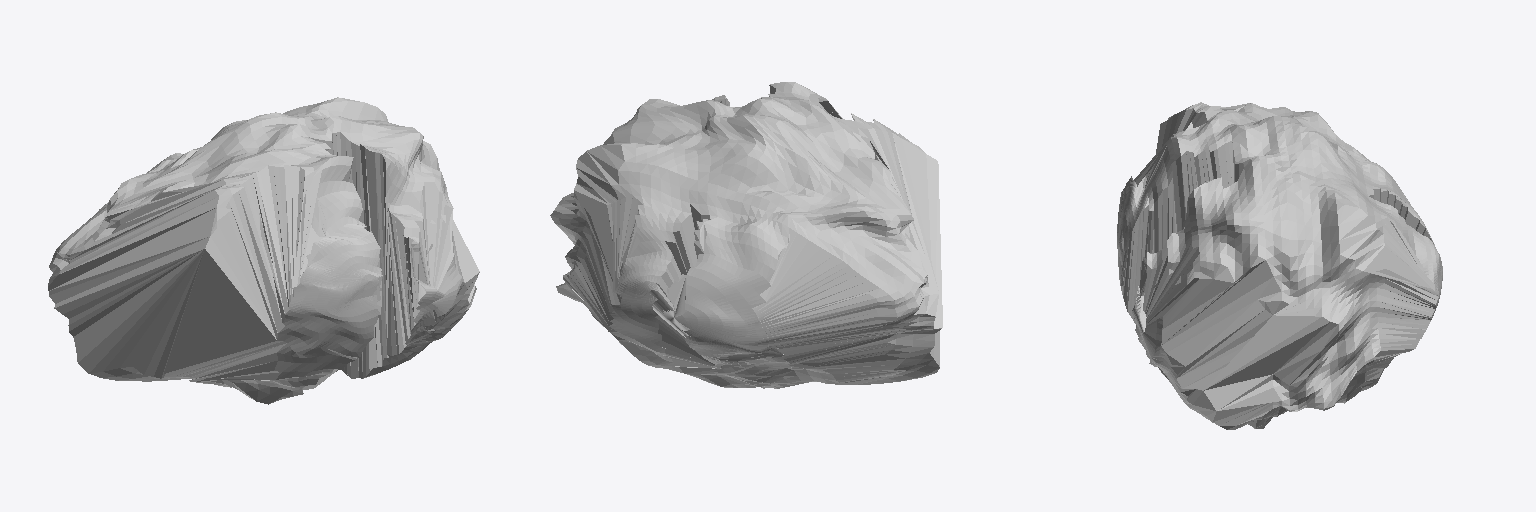
The model's file is broken asteroid2.obj.
The picture shows the model from 3 angles: view 1: azimuth 30°, elevation 25°; view 2: azimuth 150°, elevation 25°; view 3: azimuth 270°, elevation 25°; orthographic projection.
Parts seen in each view (by area): view 1: Sphere01; view 2: Sphere01; view 3: Sphere01.
Boxes of the visible parts, x1=… form: Sphere01: x1=48, y1=97, x2=479, y2=404; Sphere01: x1=550, y1=82, x2=942, y2=388; Sphere01: x1=1117, y1=102, x2=1442, y2=429.
Bounding box in the file's own units: 3.3 × 2.32 × 2.47.